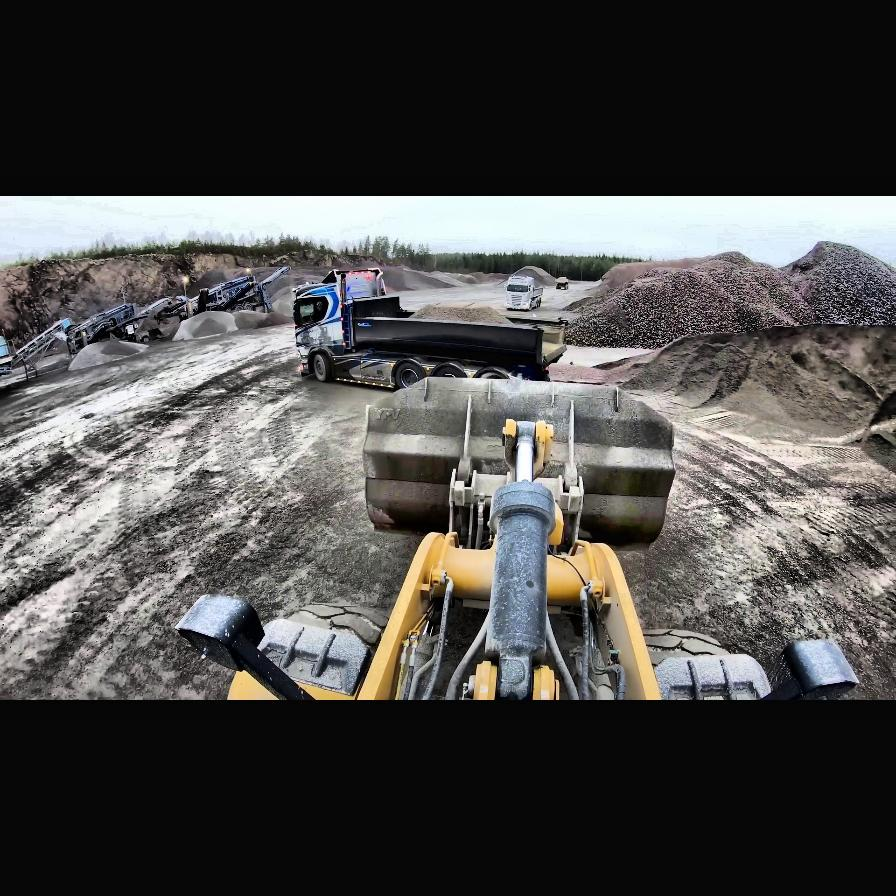anchor: (502, 419, 554, 483)
pile of gravel: (598, 320, 895, 454), (566, 240, 896, 354), (170, 310, 294, 342), (65, 339, 147, 371), (360, 264, 450, 292), (506, 265, 560, 288)
